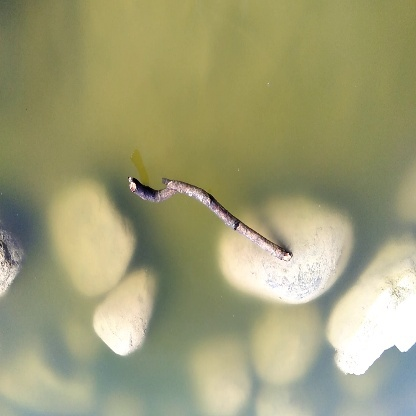branch: (125, 174, 294, 263)
